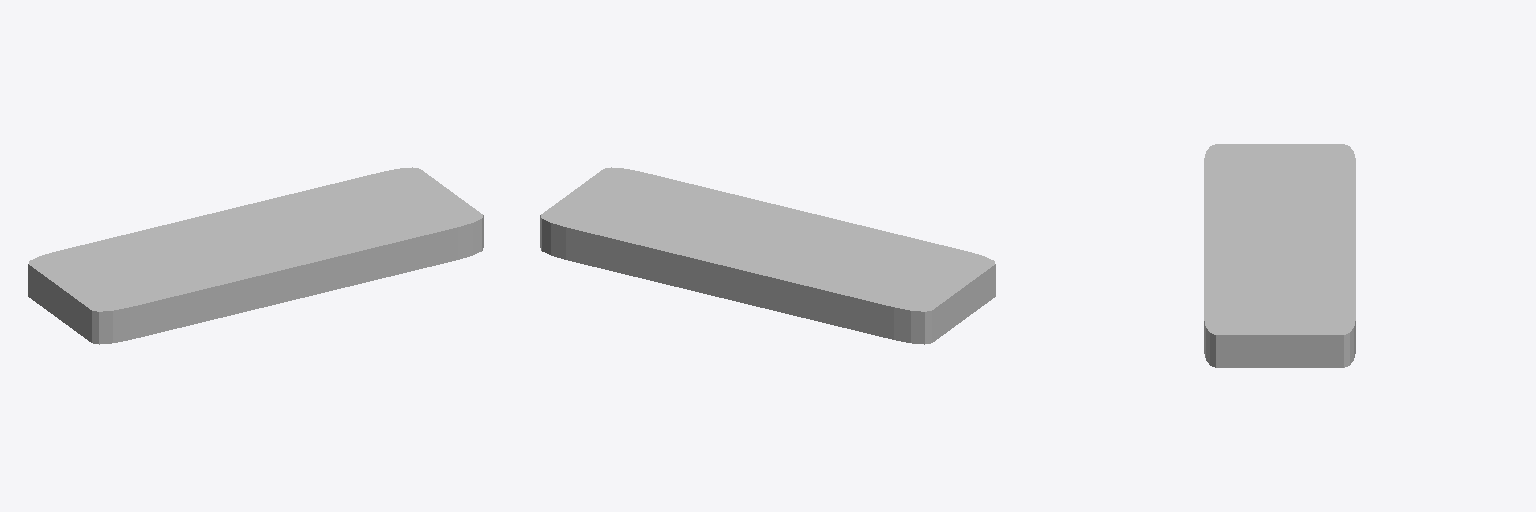
Rendered from Plaque2.obj.
3 renders of one model, left to right at view 1: azimuth 30°, elevation 25°; view 2: azimuth 150°, elevation 25°; view 3: azimuth 270°, elevation 25°, orthographic.
Parts seen in each view (by area): view 1: Plaque.001; view 2: Plaque.001; view 3: Plaque.001.
Part boxes in pixels (x1,y1,x2,y2): Plaque.001: (28,167,483,344); Plaque.001: (540,167,995,344); Plaque.001: (1204,144,1355,367).
Bounding box in the file's own units: 0.0766 × 0.0061 × 0.0257.